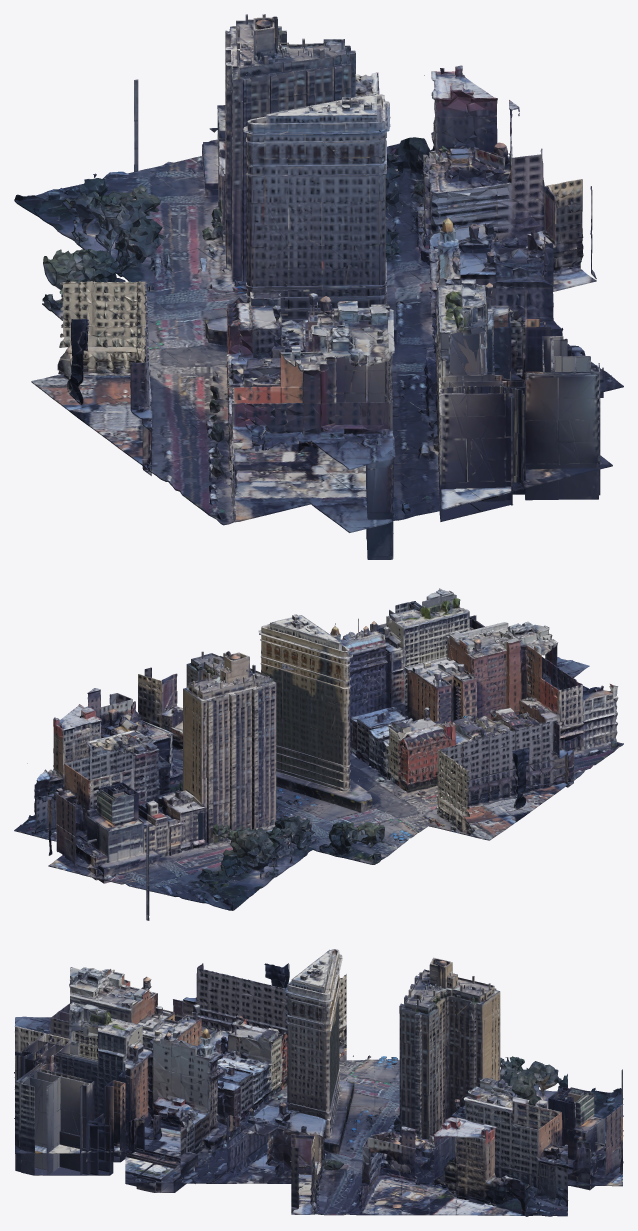
The model's file is Flatiron Building.fbx.
The picture shows the model from 3 angles, top to bottom: view 1: azimuth 30°, elevation 25°; view 2: azimuth 150°, elevation 25°; view 3: azimuth 270°, elevation 25°; orthographic projection. The views are drawn at different scales.
Visible parts, largest first — view 1: BuildingMesh-00000.001; view 2: BuildingMesh-00000.001; view 3: BuildingMesh-00000.001.
Part boxes in pixels (<box>): BuildingMesh-00000.001: <box>14,14,623,559</box>; BuildingMesh-00000.001: <box>14,588,623,920</box>; BuildingMesh-00000.001: <box>14,949,623,1216</box>.
Bounding box in the file's own units: 584 × 304 × 810.
Materials: 179 (179 with a texture image).
